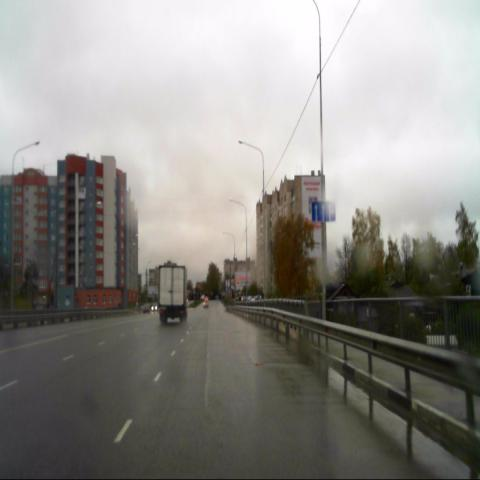5_15_1: (311, 201, 336, 222)
